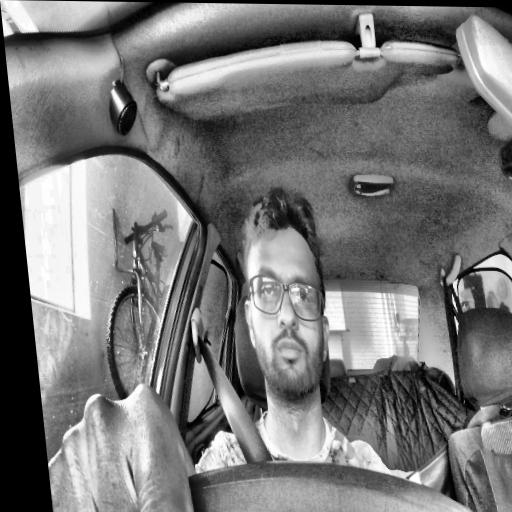awake: (232, 186, 339, 408)
